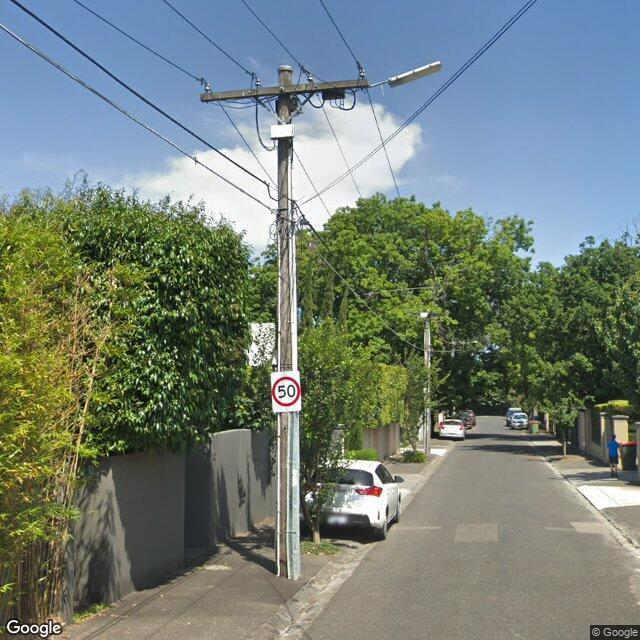crossarm: (200, 79, 370, 103)
streetlight: (368, 61, 441, 88)
timber-pole: (277, 65, 300, 580), (424, 315, 431, 455)
